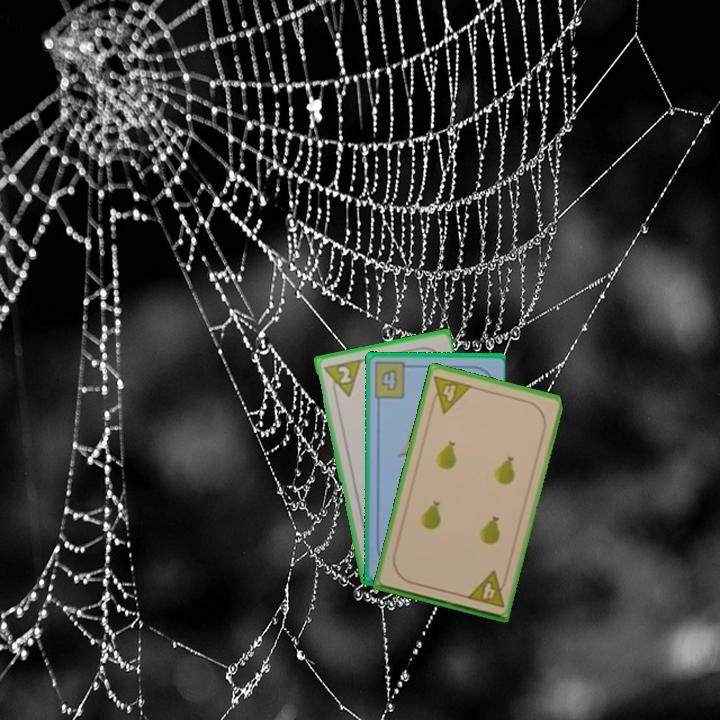2p: (319, 355, 364, 402)
4b: (370, 359, 414, 401)
4p: (426, 372, 474, 416), (463, 568, 510, 610)
